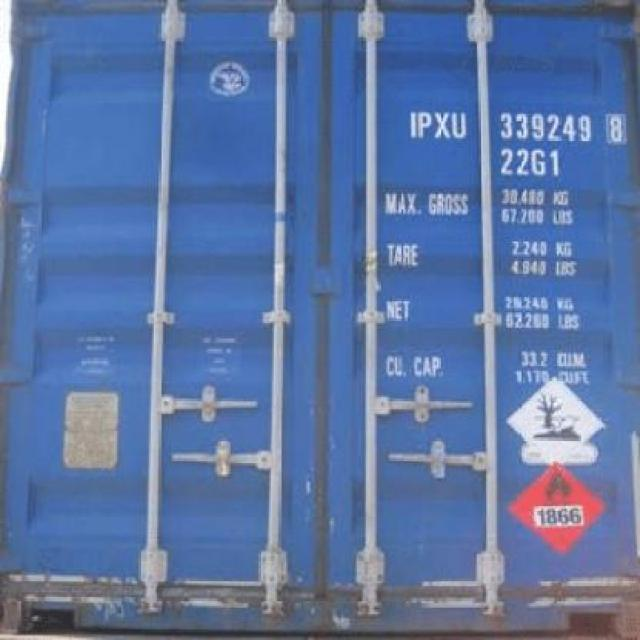ISO: (498, 148, 560, 178)
container_number: (408, 112, 622, 142)
